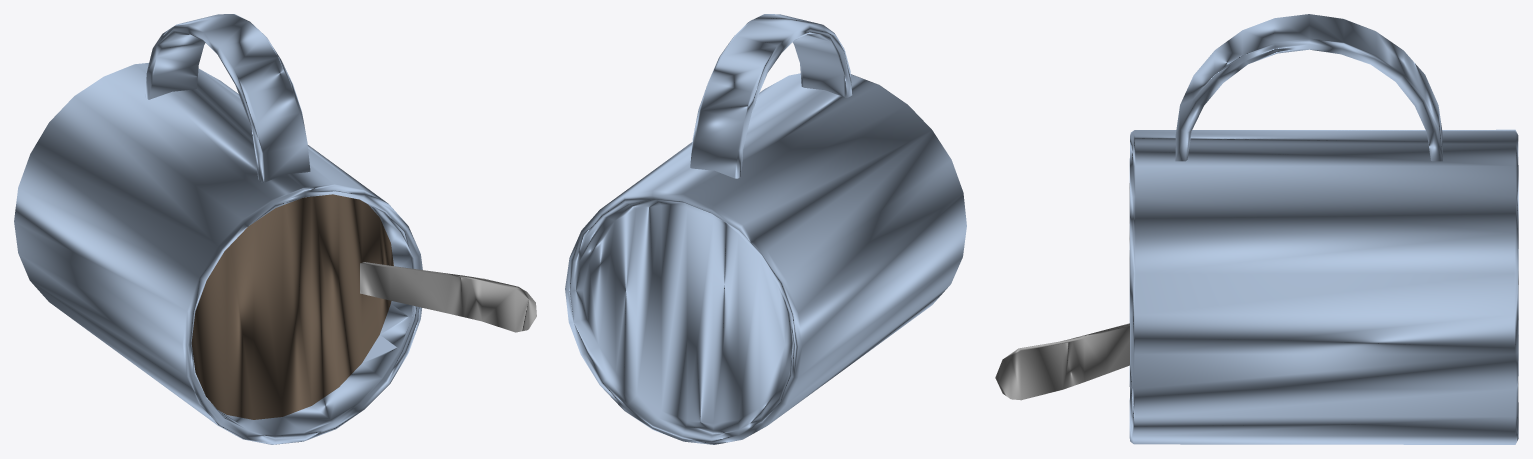
The model's file is model_align.obj.
The picture shows the model from 3 angles, left to right: view 1: azimuth 30°, elevation 25°; view 2: azimuth 150°, elevation 25°; view 3: azimuth 270°, elevation 25°; orthographic projection. The views are drawn at different scales.
Bounding box in the file's own units: 0.0932 × 0.1082 × 0.1269.
